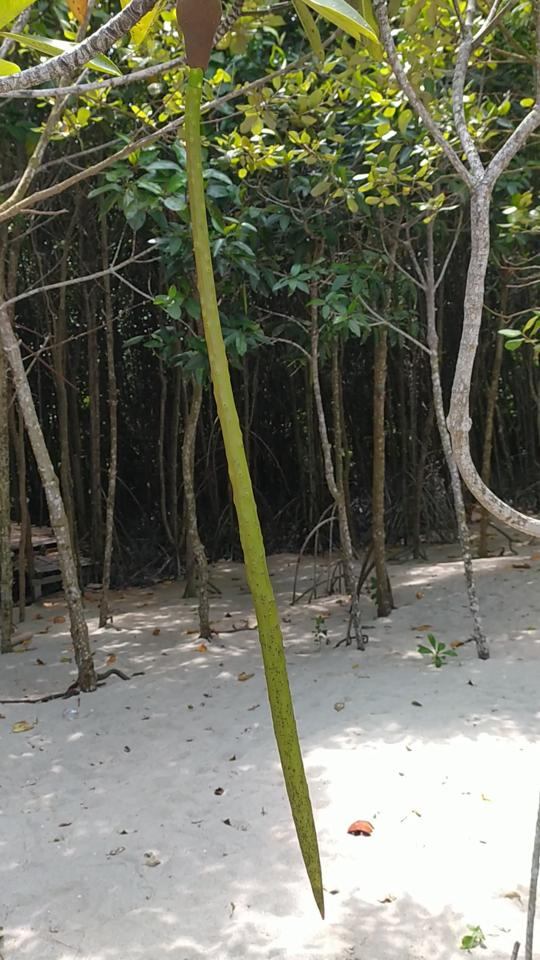mentah: (154, 1, 341, 934)
